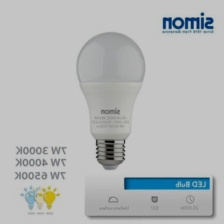light_bulb: (72, 26, 149, 171)
